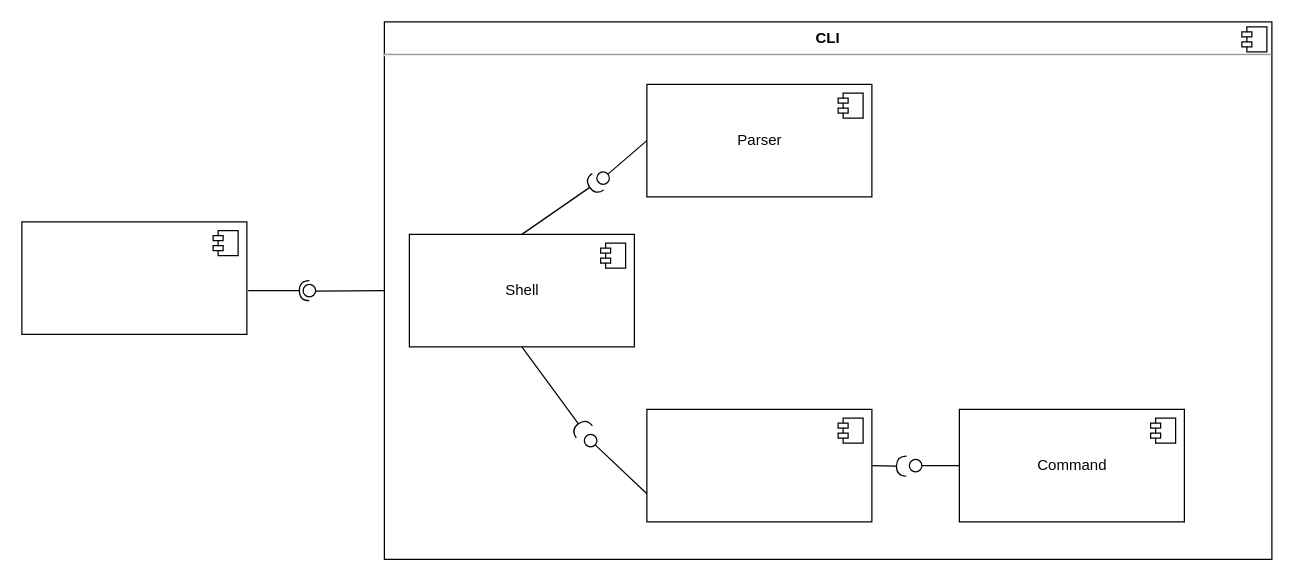
The diagram is 1294 pixels wide and 581 high, and some of its shapes have lost their labels. Here are the shapes that lost their labels. From the top down, the centre of each, then its label:
[134,277]: Terminal
[759,465]: CommandFactory
